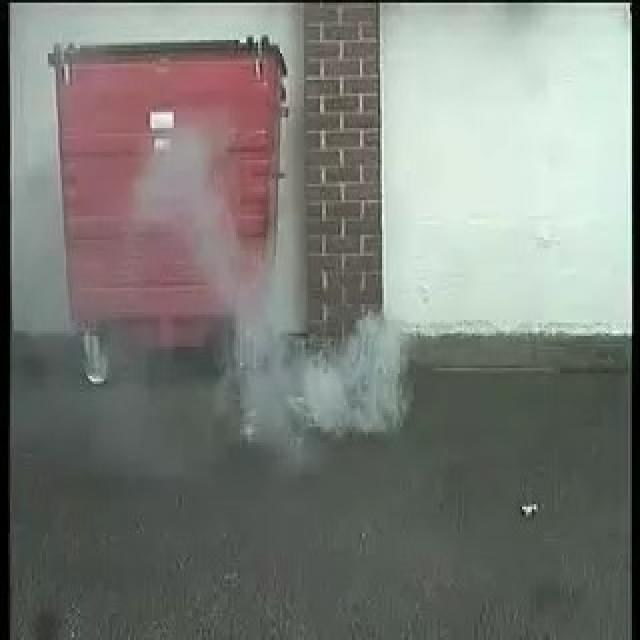smoke: (210, 312, 407, 436)
